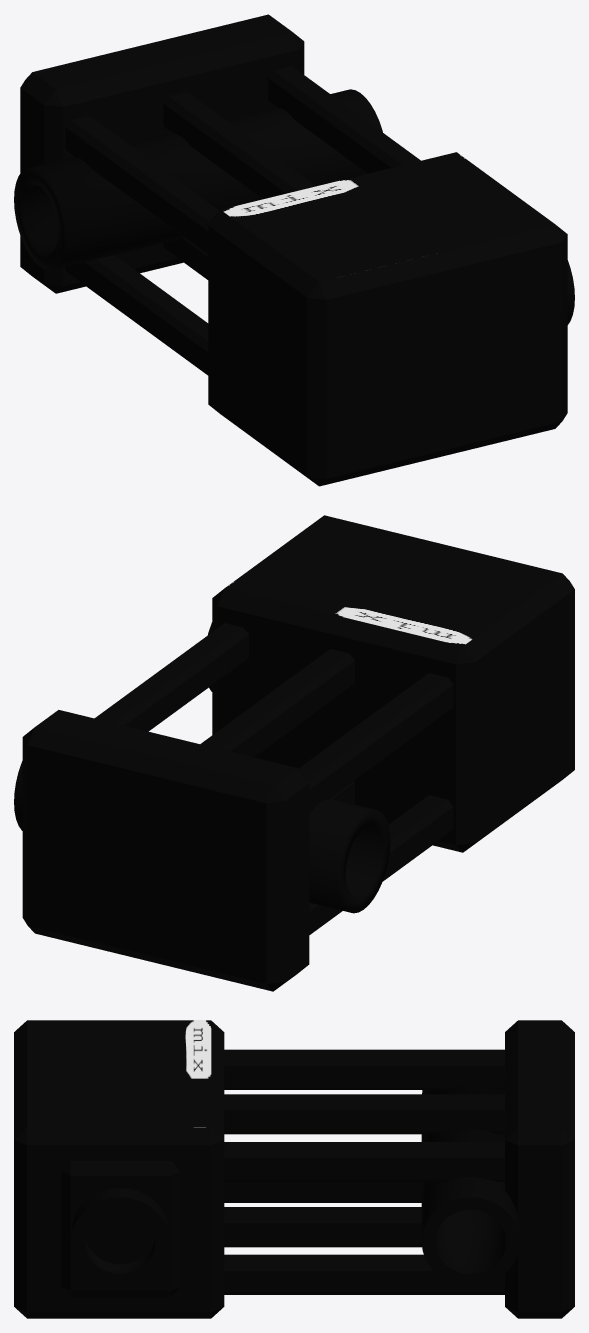
The model's file is hook_node.glb.
3 renders of one model, top to bottom at view 1: azimuth 30°, elevation 25°; view 2: azimuth 150°, elevation 25°; view 3: azimuth 270°, elevation 25°, orthographic. The views are drawn at different scales.
Visible parts, largest first — view 1: HookNode; view 2: HookNode; view 3: HookNode.
Boxes of the visible parts, left/top/right/bottom form: HookNode: left=14, top=14, right=574, bottom=486; HookNode: left=14, top=515, right=574, bottom=991; HookNode: left=14, top=1020, right=574, bottom=1318.
Bounding box in the file's own units: 0.9833 × 0.6 × 1.6.
1 material, 1 textured.
